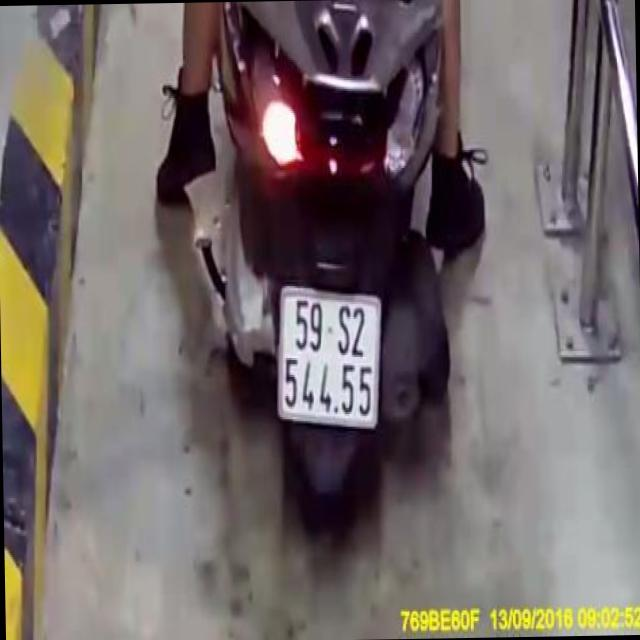LP: (270, 279, 388, 435)
